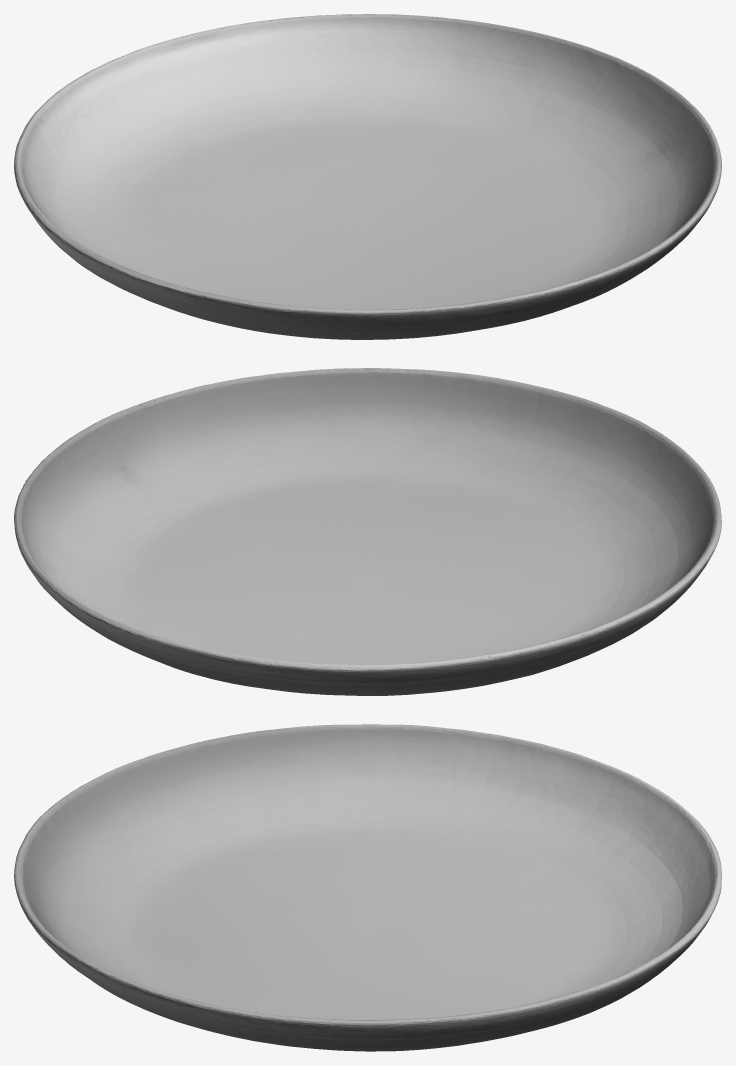
The picture shows the model from 3 angles, top to bottom: view 1: azimuth 30°, elevation 25°; view 2: azimuth 150°, elevation 25°; view 3: azimuth 270°, elevation 25°; orthographic projection.
Visible parts, largest first — view 1: world; view 2: world; view 3: world.
Boxes of the visible parts, x1=… form: world: x1=14, y1=14, x2=721, y2=339; world: x1=14, y1=368, x2=721, y2=695; world: x1=14, y1=724, x2=721, y2=1051.
Size of the model in its own units: 0.1954 by 0.0216 by 0.1958.
Materials: 1 (1 with a texture image).
